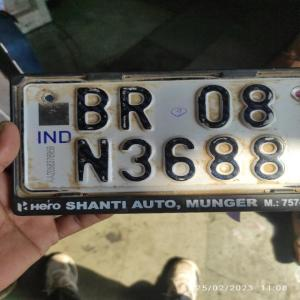Plate: (24, 78, 298, 192)
